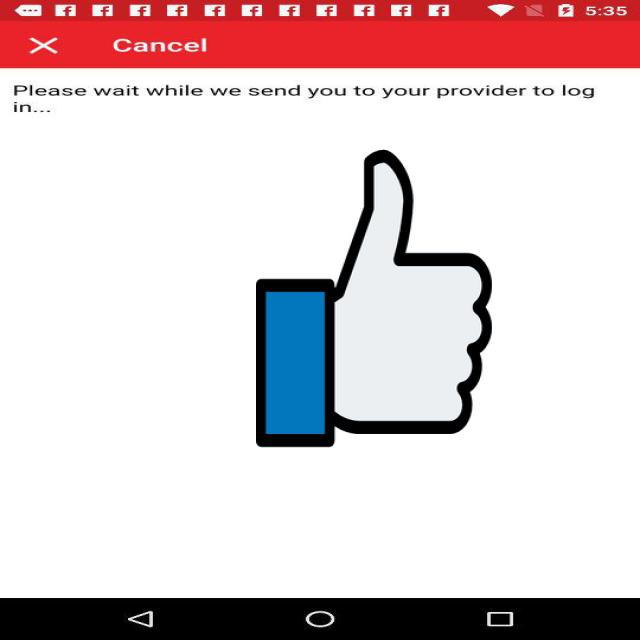privacy zuckering: (256, 144, 492, 454)
